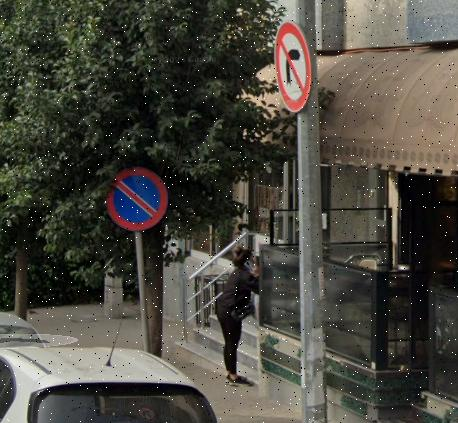rightturnsareforbidden: (273, 22, 315, 111)
